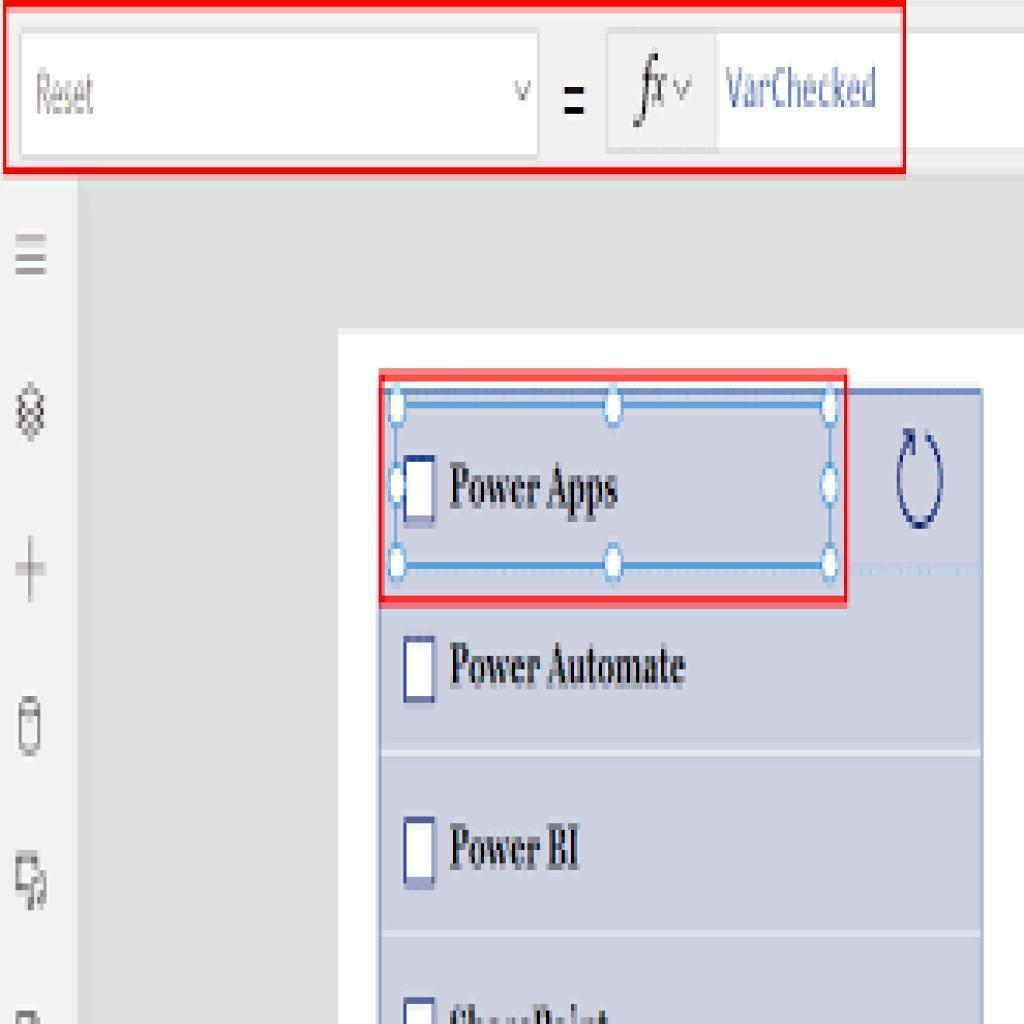button: (607, 28, 901, 146)
checkbox: (400, 632, 441, 709), (401, 814, 442, 891), (403, 452, 440, 530)
dropdown: (17, 26, 542, 158)
icon: (887, 421, 953, 536), (7, 681, 50, 768), (10, 839, 56, 919), (9, 531, 55, 608), (14, 374, 50, 449), (13, 227, 54, 285)
label: (449, 637, 691, 692), (450, 451, 625, 525), (449, 817, 588, 877)
